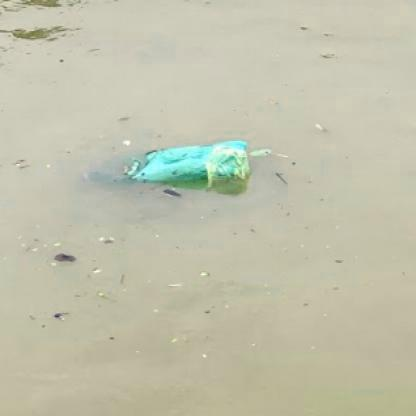Plastic: (122, 137, 254, 194)
